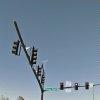traffic lights: (30, 45, 38, 67)
